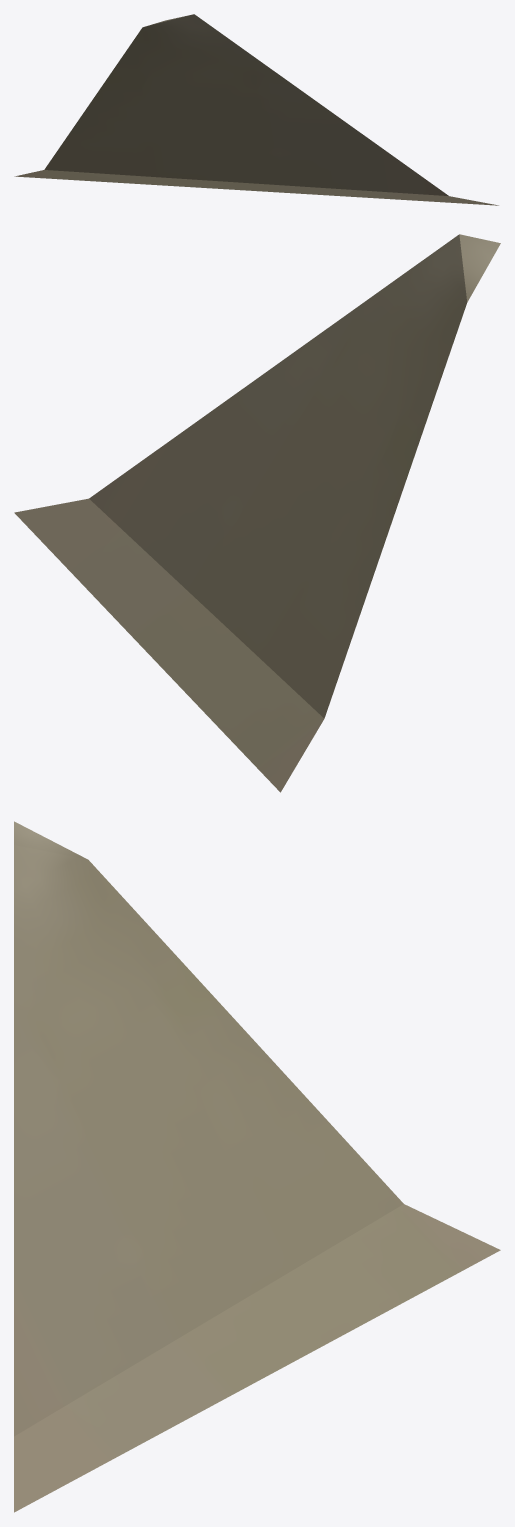
3 views of the same model, one above another, from view 1: azimuth 30°, elevation 25°; view 2: azimuth 150°, elevation 25°; view 3: azimuth 270°, elevation 25° (orthographic). The views are drawn at different scales.
Bounding box in the file's own units: 0.5973 × 0.455 × 0.4682.
Materials: 1 (1 with a texture image).
